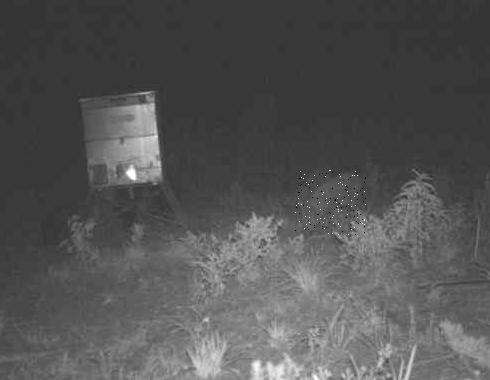Hog: (295, 170, 366, 235)
